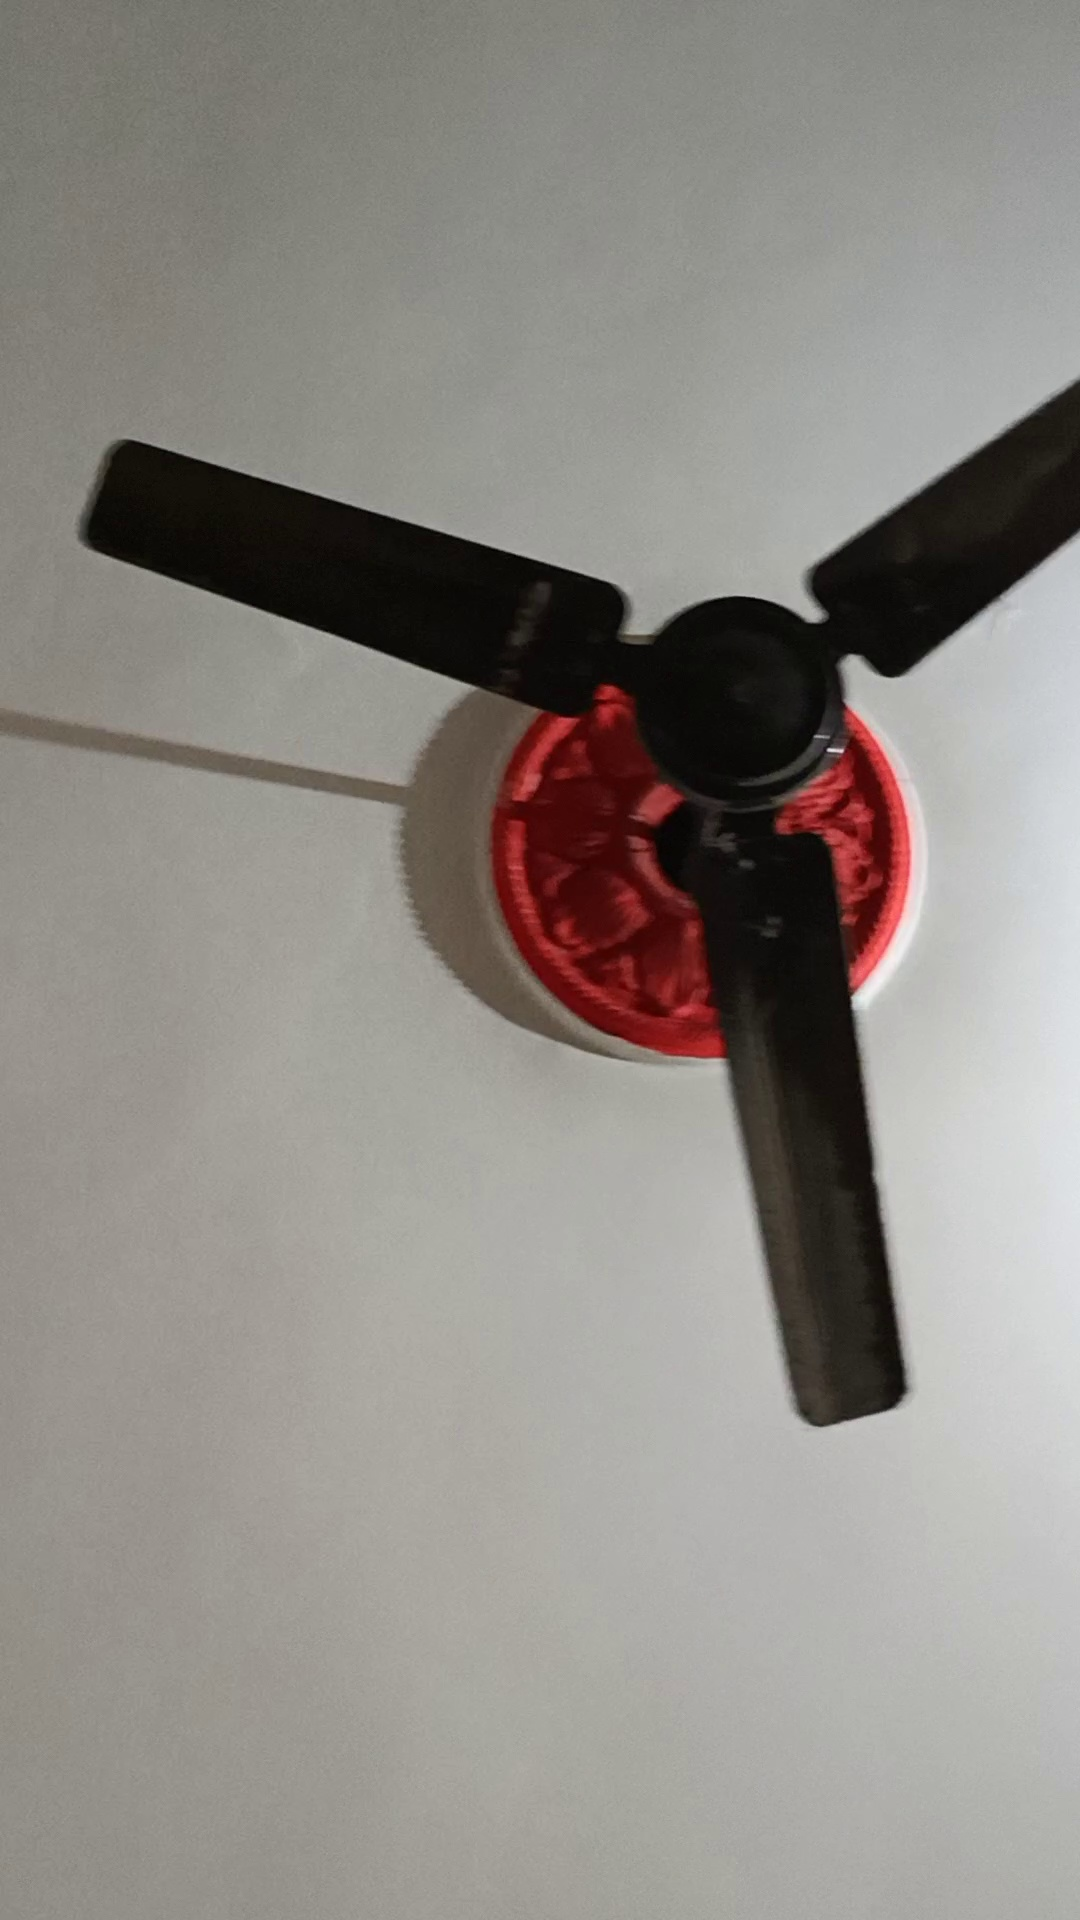fan: (53, 327, 1080, 1458)
